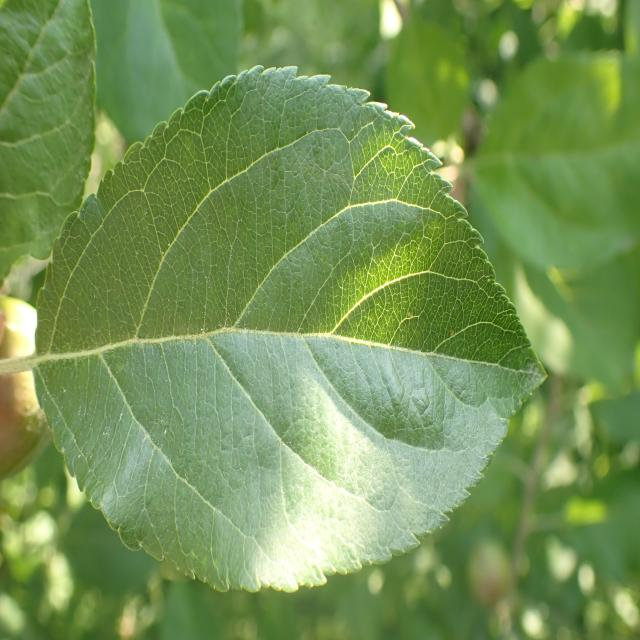healthy: (33, 63, 550, 594), (0, 0, 98, 282)
